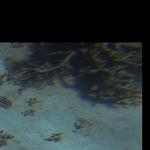dead: (4, 44, 140, 146)
